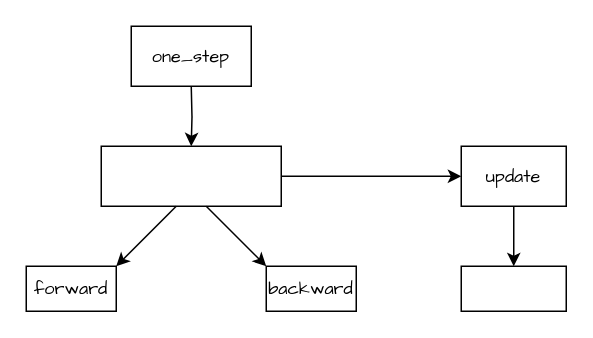
This 593x338 diagram has some shape labels left out. The shapes that lost their labels are listed below. From the top down, each one's centre as x and y in pixels, then its label:
the point at 190,175: forward_backward
the point at 513,288: _update
